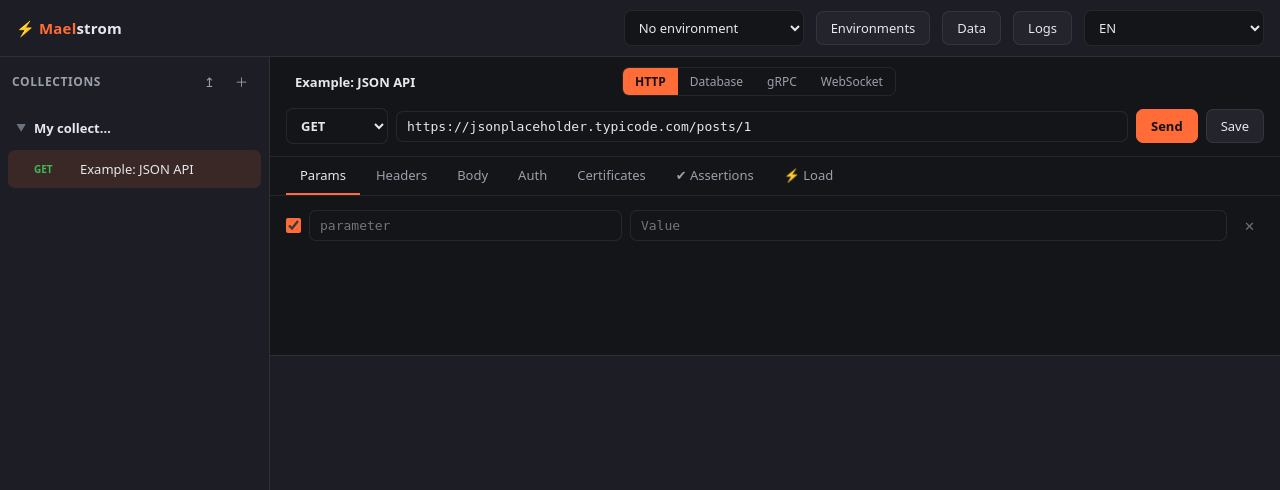
Scenario: full flow: compose request → send → load test › starts a load test and renders the finished report
This screenshot has width=1280, height=490.
Expected: the field with placeholder "https://api.example.com/users?id={{user_id}}" is shown, x1=396 y1=110 x2=1128 y2=142
Note: Switch to the load-test tab.
Click the text "⚡ Load" at point(808, 175), box x1=784 y1=166 x2=833 y2=184
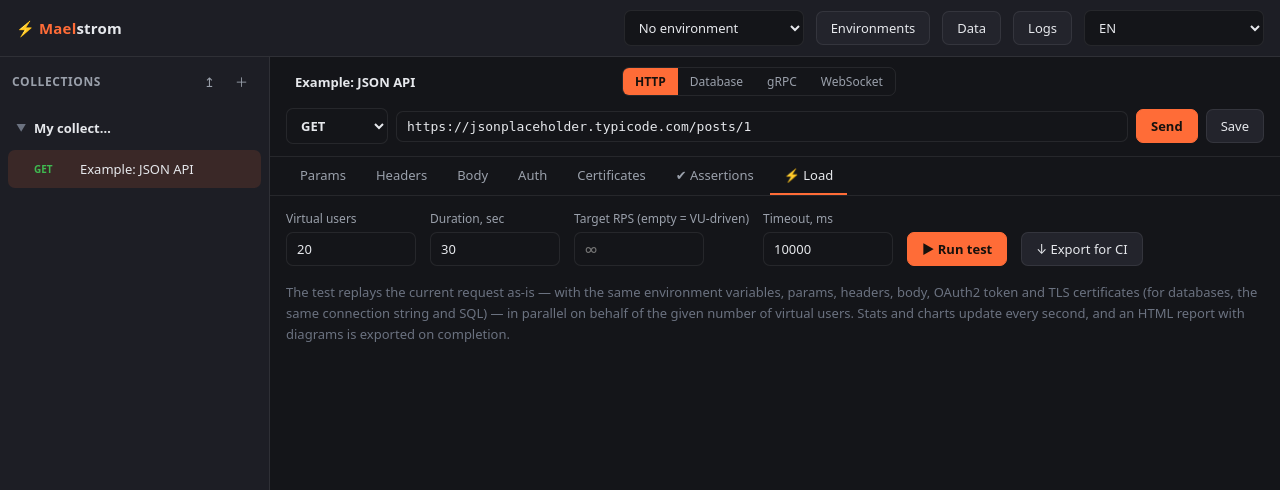
Note: Start the test.
Click the button "▶ Run test" at point(957, 249), box x1=907 y1=232 x2=1007 y2=266
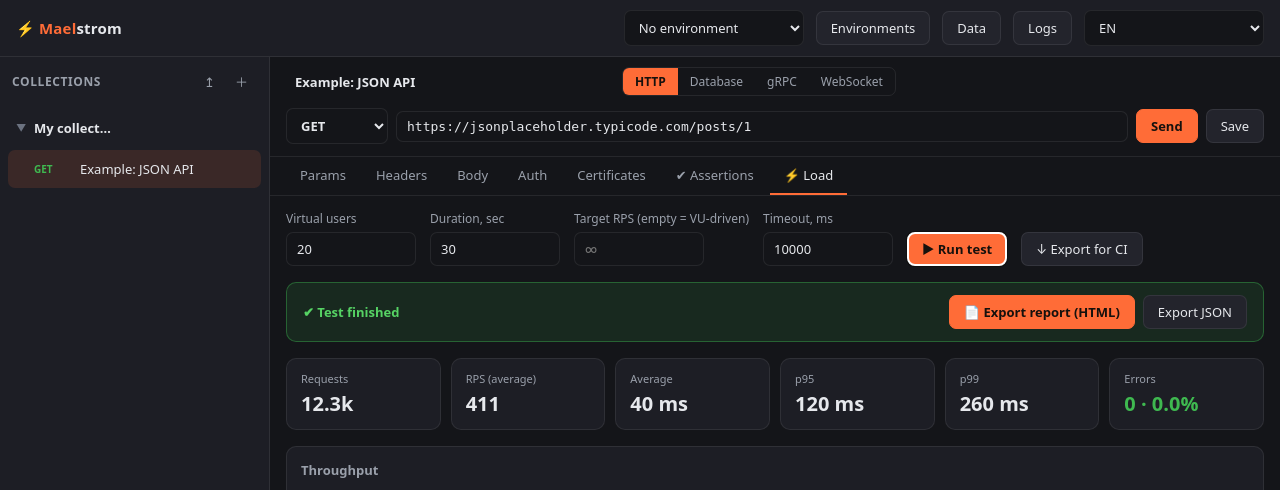
Now the text "✔ Test finished 📄 Export report (HTML) Export JSON" is shown, box x1=286 y1=282 x2=1264 y2=342
Now the text "12.3k" is shown, box x1=301 y1=390 x2=353 y2=417
